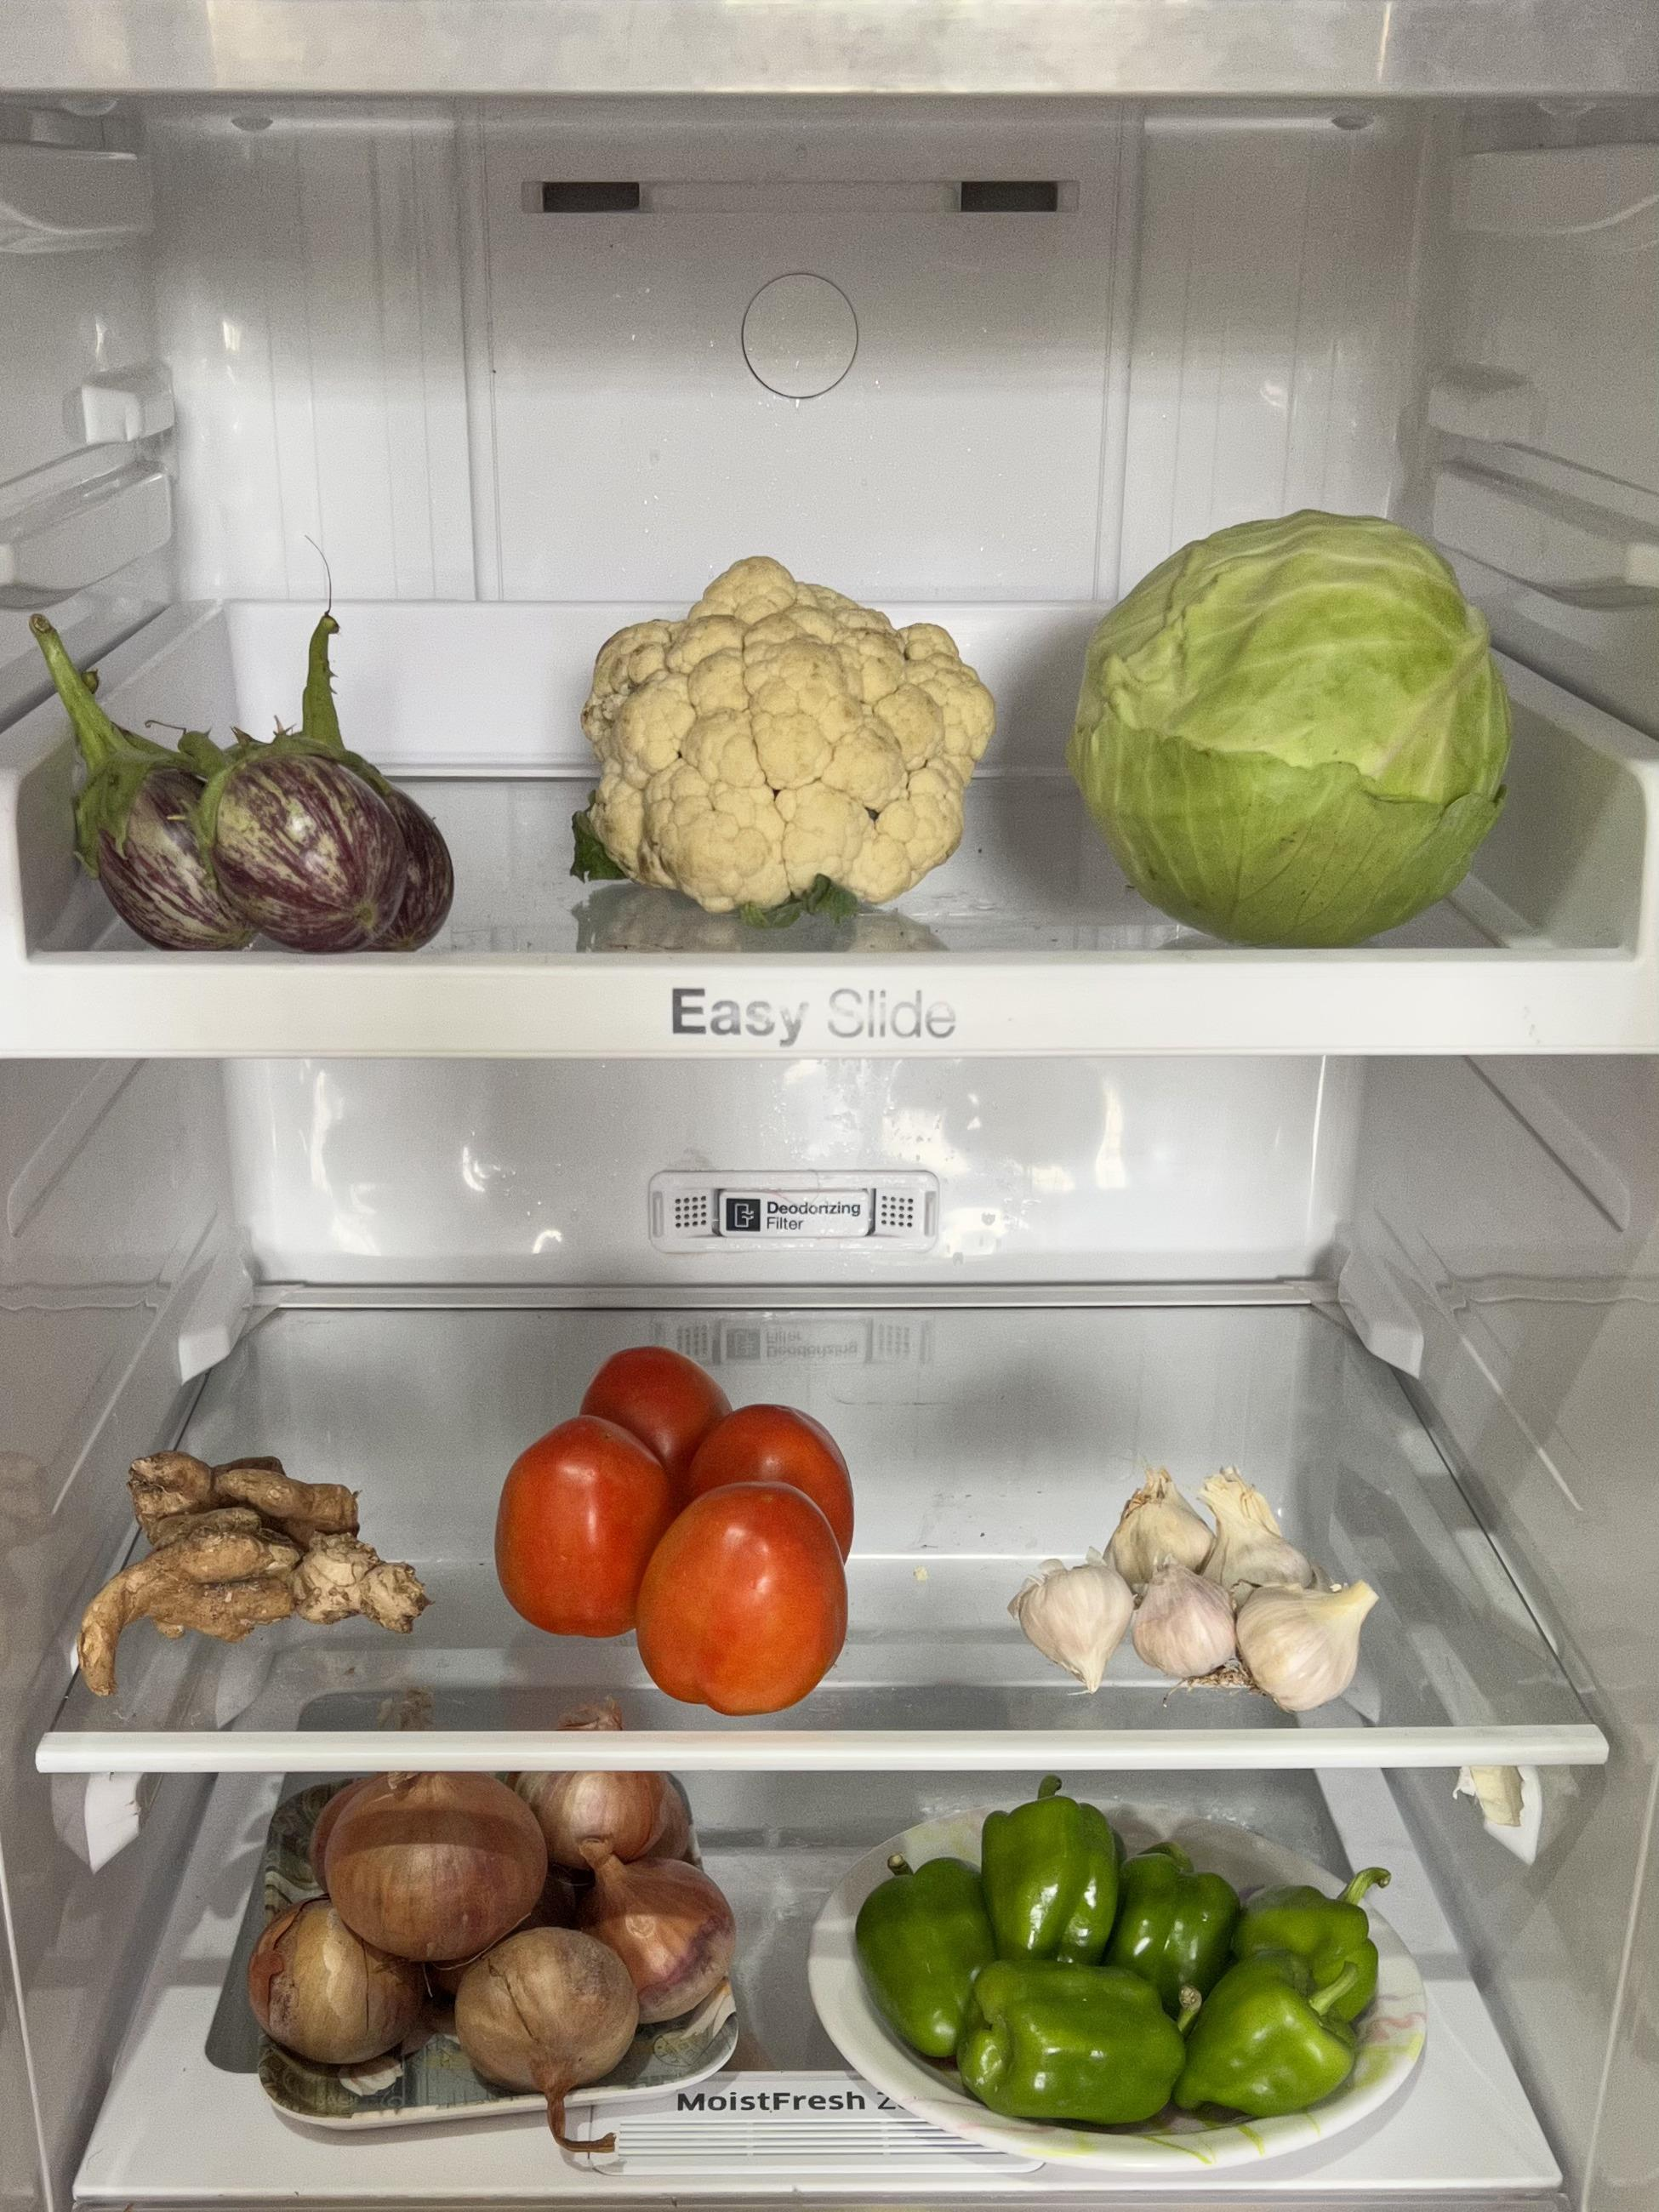bringal: (23, 604, 448, 949)
cabbage: (1091, 503, 1500, 925)
capsicum: (856, 1787, 1389, 2139)
cauliflower: (572, 545, 979, 897)
garlic: (1018, 1456, 1373, 1709)
ginger: (78, 1444, 420, 1686)
onion: (244, 1784, 744, 2111)
tomato: (497, 1341, 854, 1714)
